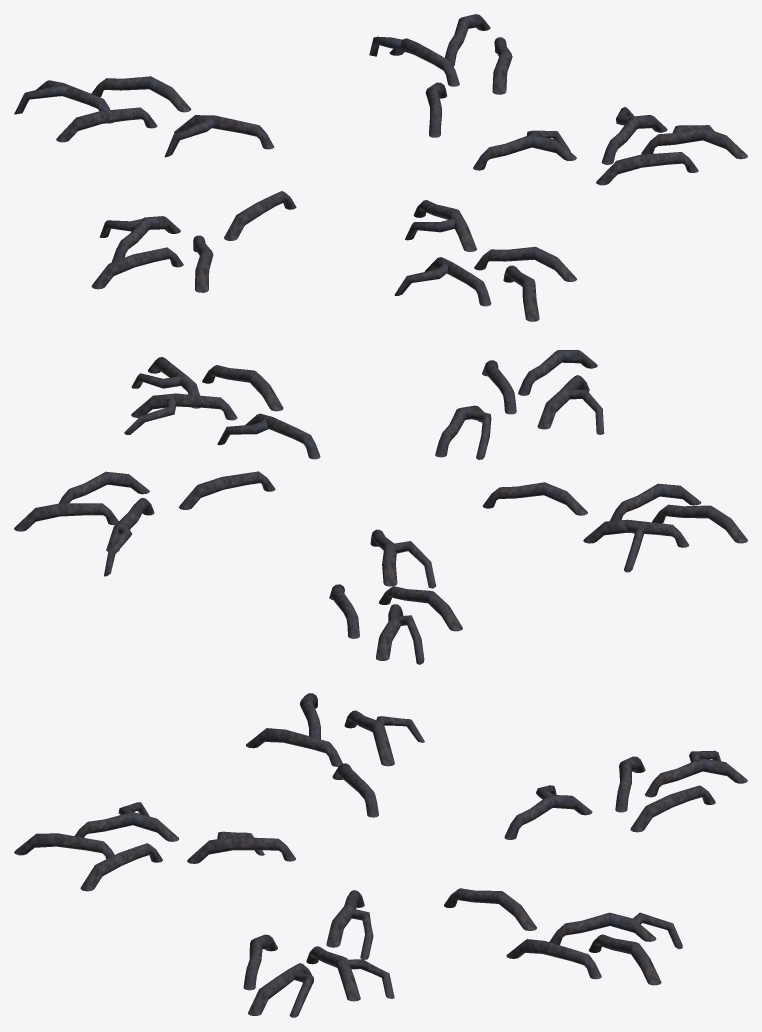
The model's file is SM_ObeliskCorruptedVines.fbx.
3 views of the same model, one above another, from view 1: azimuth 30°, elevation 25°; view 2: azimuth 150°, elevation 25°; view 3: azimuth 270°, elevation 25° (orthographic). The views are drawn at different scales.
Parts seen in each view (by area): view 1: SM_ObeliskCorruptedVines; view 2: SM_ObeliskCorruptedVines; view 3: SM_ObeliskCorruptedVines.
Part boxes in pixels (box(x1,y1,x2,y2)): SM_ObeliskCorruptedVines: box(14, 14, 747, 321); SM_ObeliskCorruptedVines: box(14, 350, 747, 664); SM_ObeliskCorruptedVines: box(14, 693, 747, 1017).
Size of the model in its own units: 8442 by 542 by 8386.
